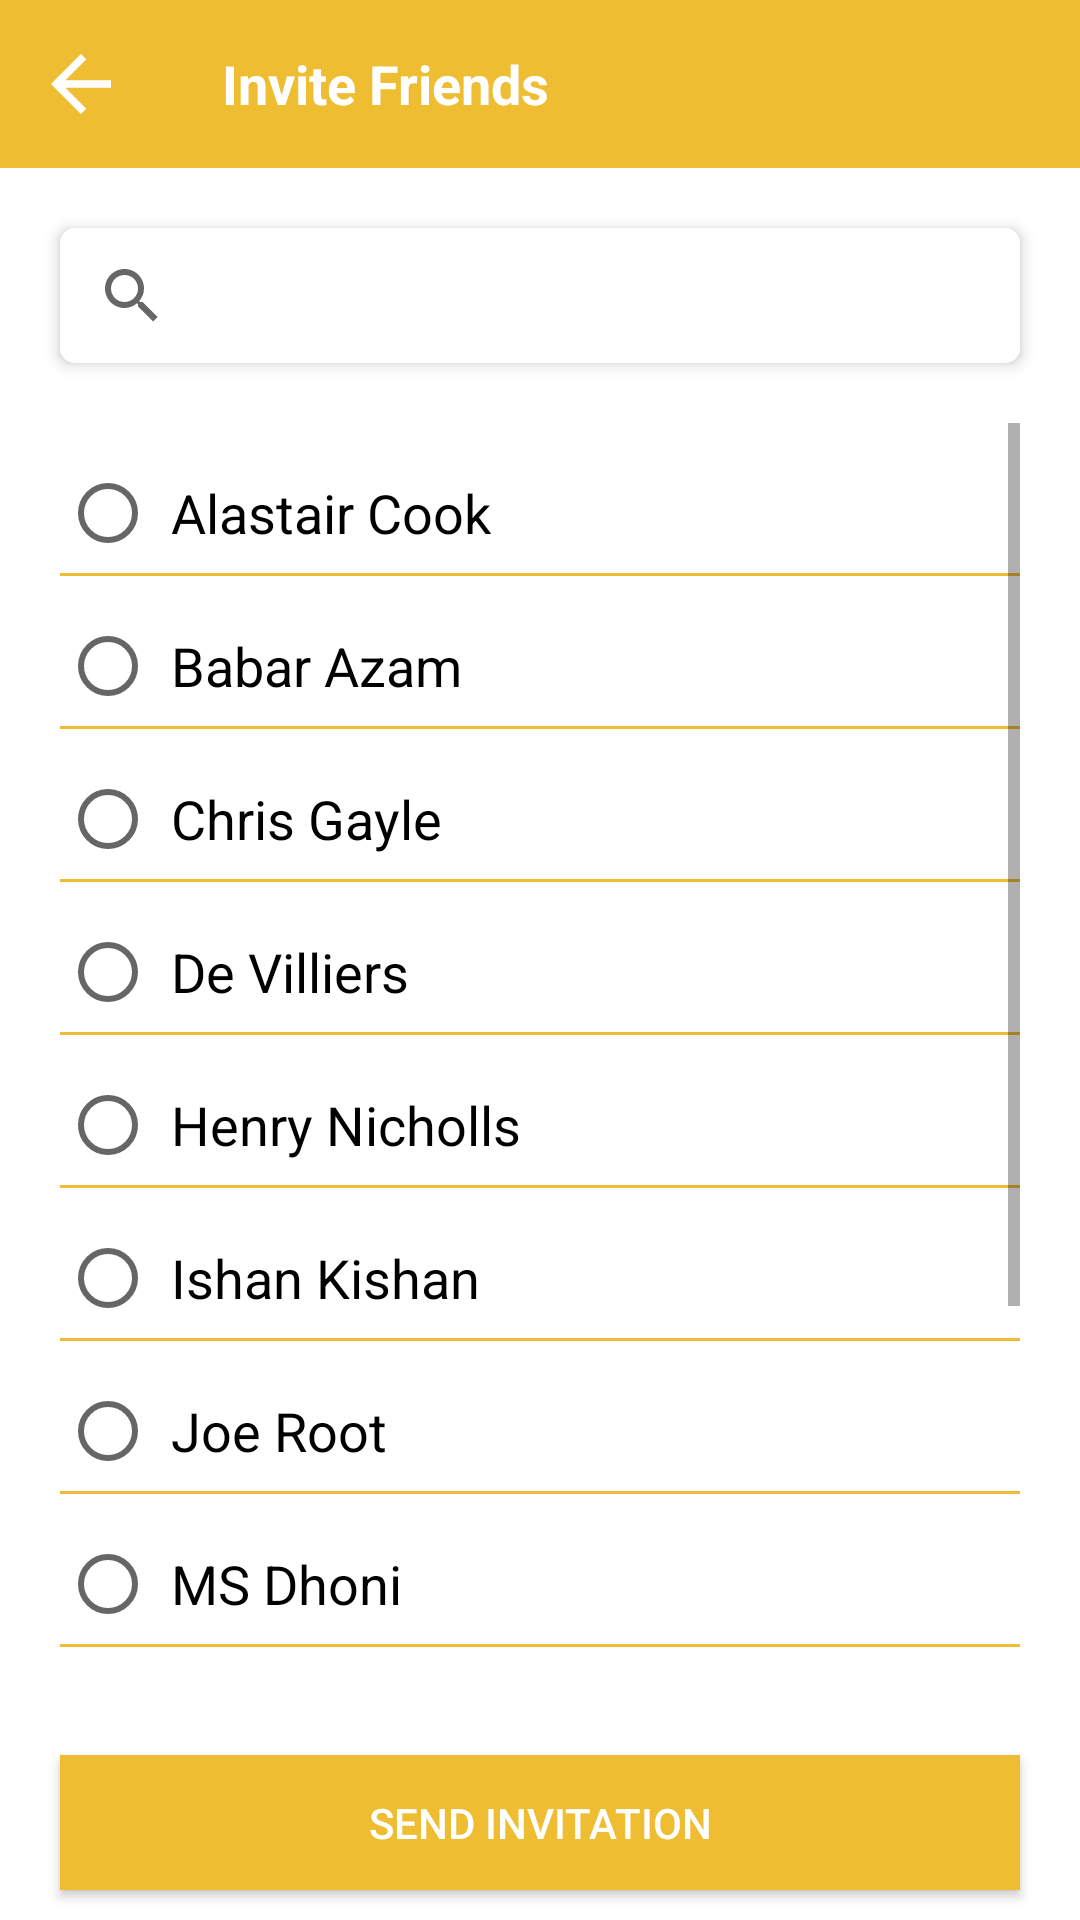

Icons on this 1080 x 1920 Android screen, each with the point to tap as (x,y):
arrow back: (81,84)
